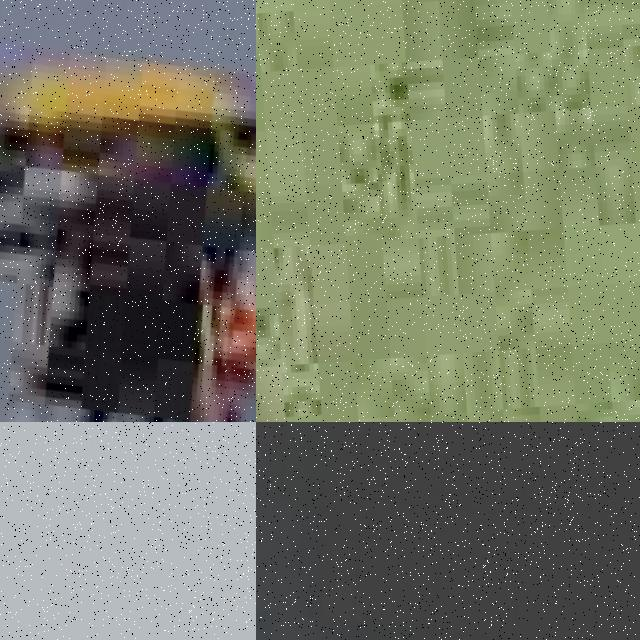0: (0, 0, 256, 422)
drone: (256, 422, 640, 640)
